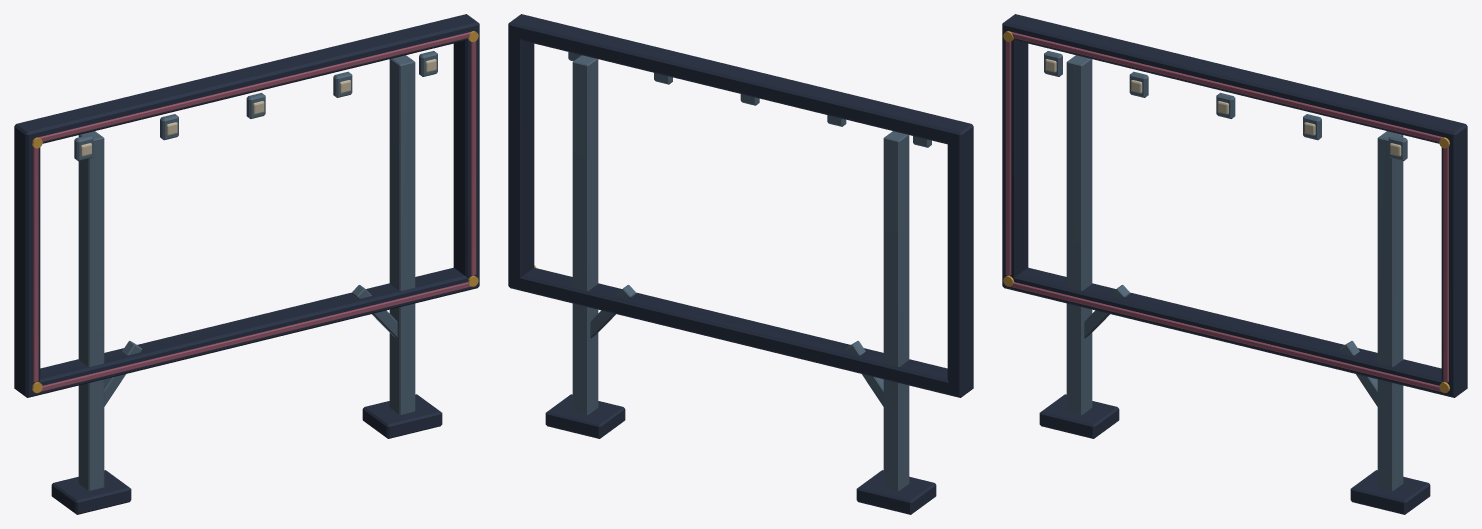
The model's file is billboard-frame.glb.
3 renders of one model, left to right at view 1: azimuth 30°, elevation 25°; view 2: azimuth 150°, elevation 25°; view 3: azimuth 330°, elevation 25°, orthographic.
Visible parts, largest first — view 1: billboard-frame; view 2: billboard-frame; view 3: billboard-frame.
Boxes of the visible parts, x1,y1,x2,y2 form: billboard-frame: [14, 14, 479, 514]; billboard-frame: [508, 14, 973, 514]; billboard-frame: [1002, 14, 1467, 514].
Size of the model in its own units: 4.88 by 3.99 by 0.48.
